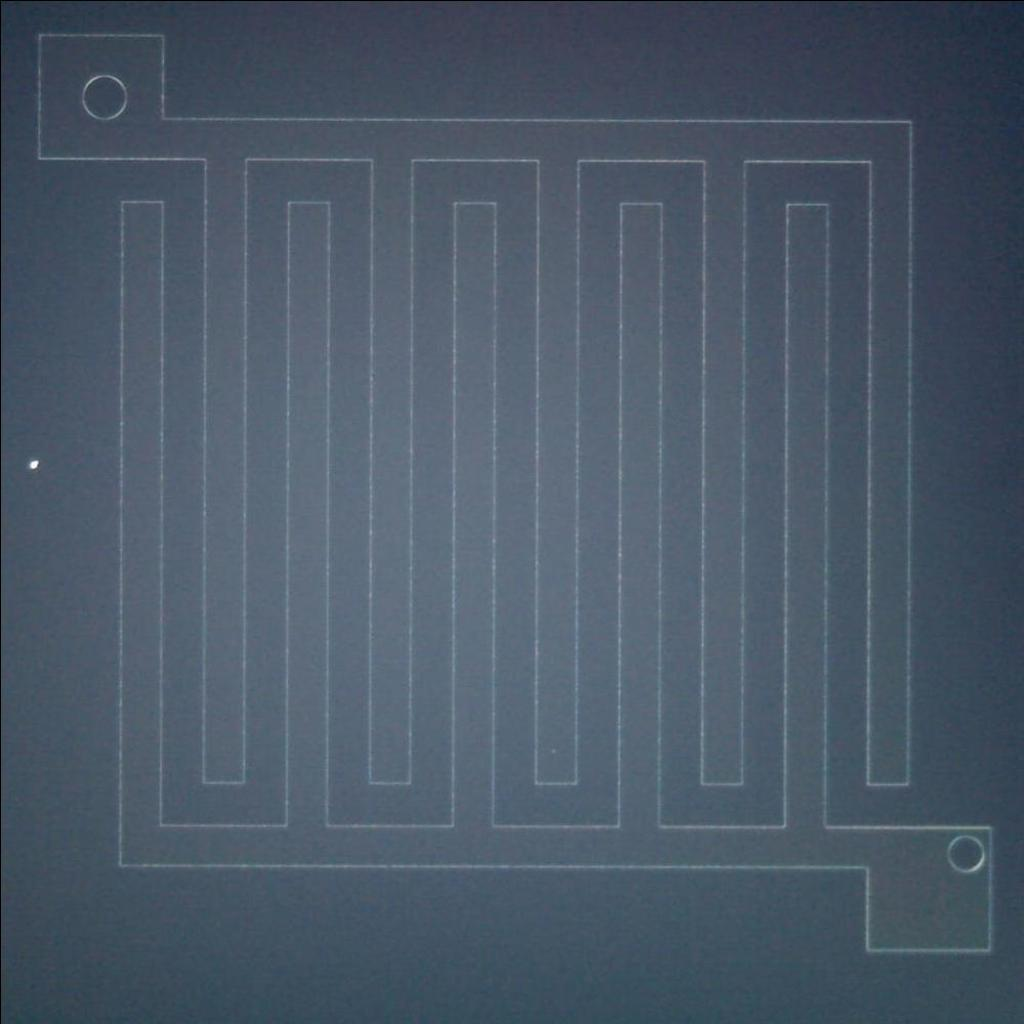circle: (74, 68, 135, 120), (938, 830, 995, 881)
spot: (22, 453, 48, 476)
